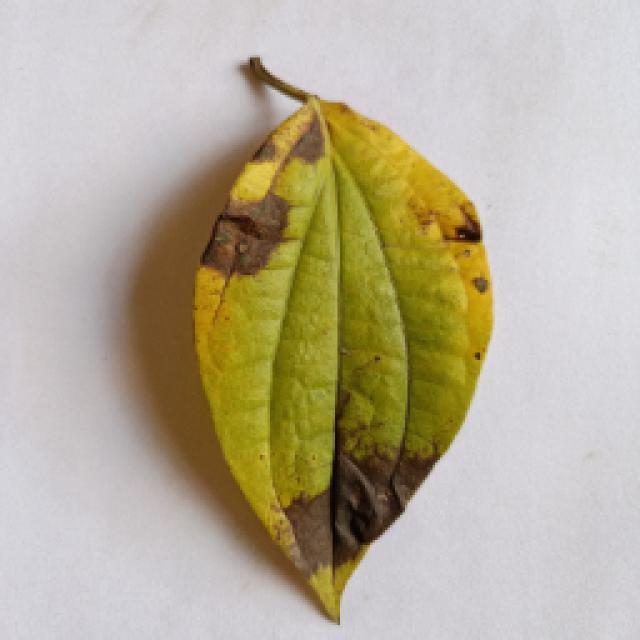slow-decline: (188, 65, 492, 625)
